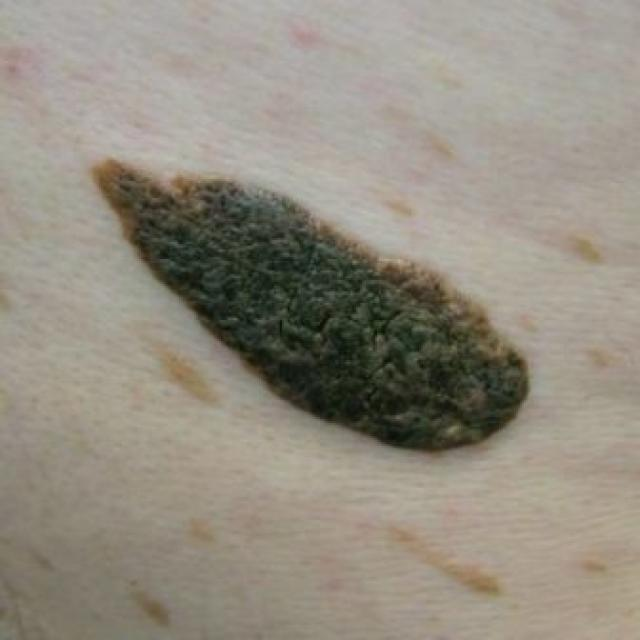Cancer: (68, 120, 557, 463)
